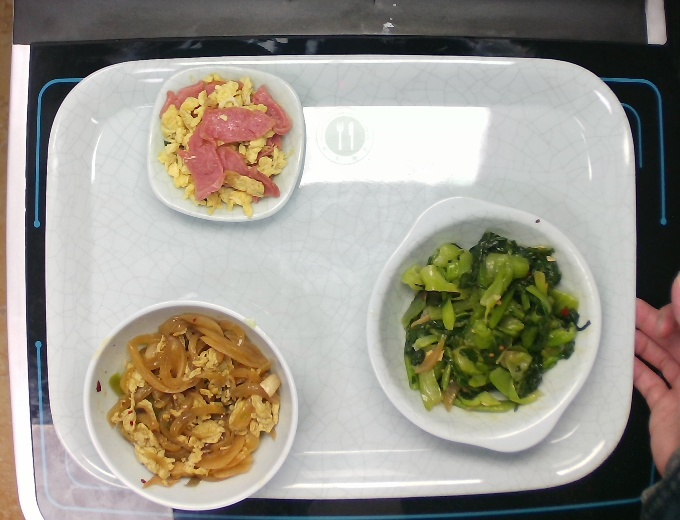JYsf-Fan_Wan: (79, 297, 304, 513)
JYsf-Shuang_Er_Wan: (361, 191, 607, 458)
JYsf-Si_Fang_Die: (145, 60, 312, 227)
